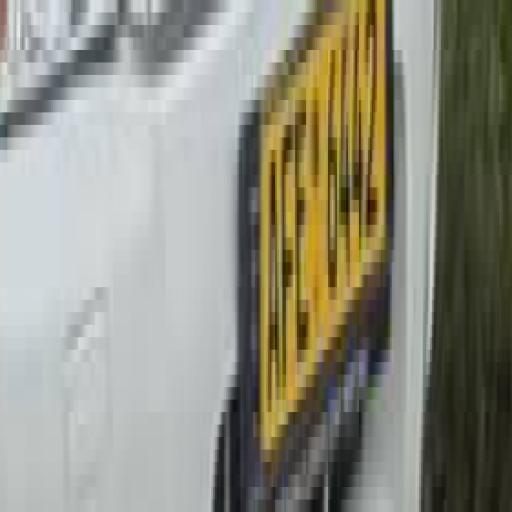number-plates: (258, 0, 396, 408)
